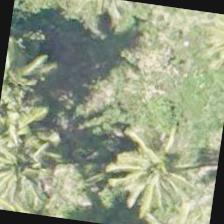Kelapa_Sawit: (102, 123, 205, 223), (0, 113, 70, 213)
